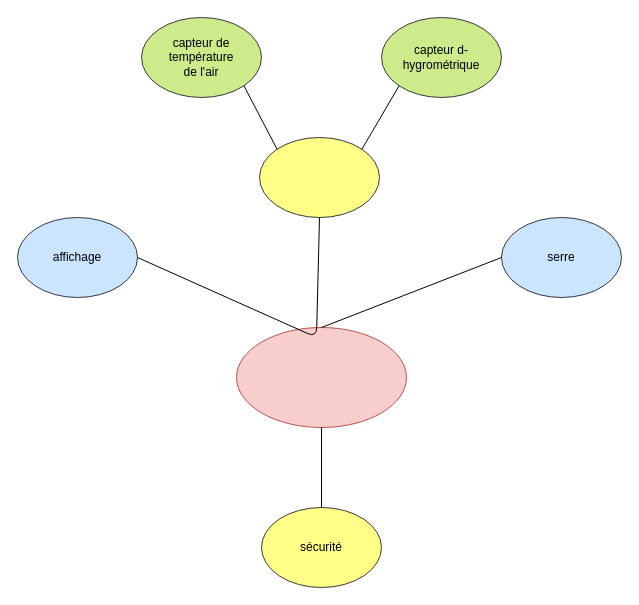
The diagram is 639 pixels wide and 605 high, and some of its shapes have lost their labels. Each missing label, with the box of its shape:
mesurer la température et le taux d'humidité: (258, 136, 380, 218)
plante connectée: (236, 326, 406, 428)
